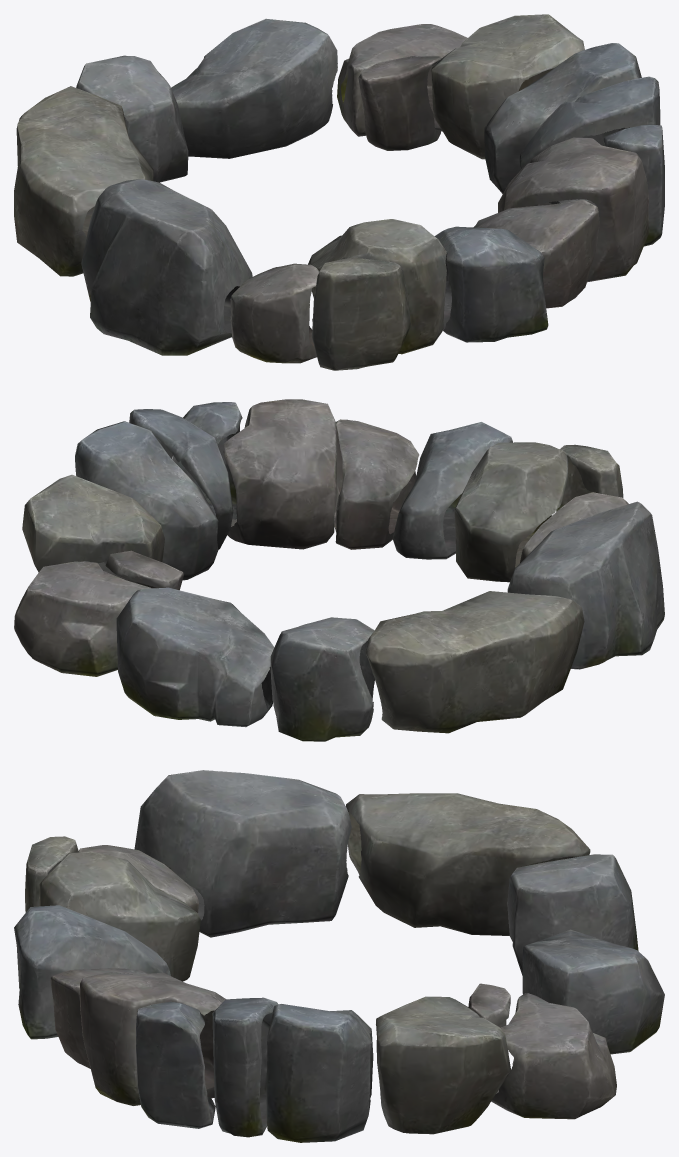
3 renders of one model, top to bottom at view 1: azimuth 30°, elevation 25°; view 2: azimuth 150°, elevation 25°; view 3: azimuth 270°, elevation 25°, orthographic. The views are drawn at different scales.
Parts seen in each view (by area): view 1: SM_Garou_Firepit_Medium_01_LOD0; view 2: SM_Garou_Firepit_Medium_01_LOD0; view 3: SM_Garou_Firepit_Medium_01_LOD0.
Part boxes in pixels (x1,y1,x2,y2): SM_Garou_Firepit_Medium_01_LOD0: (14, 14, 664, 370); SM_Garou_Firepit_Medium_01_LOD0: (14, 399, 664, 741); SM_Garou_Firepit_Medium_01_LOD0: (14, 770, 664, 1142).
Bounding box in the file's own units: 1.13 × 0.2373 × 1.11.
Materials: 1 (1 with a texture image).
